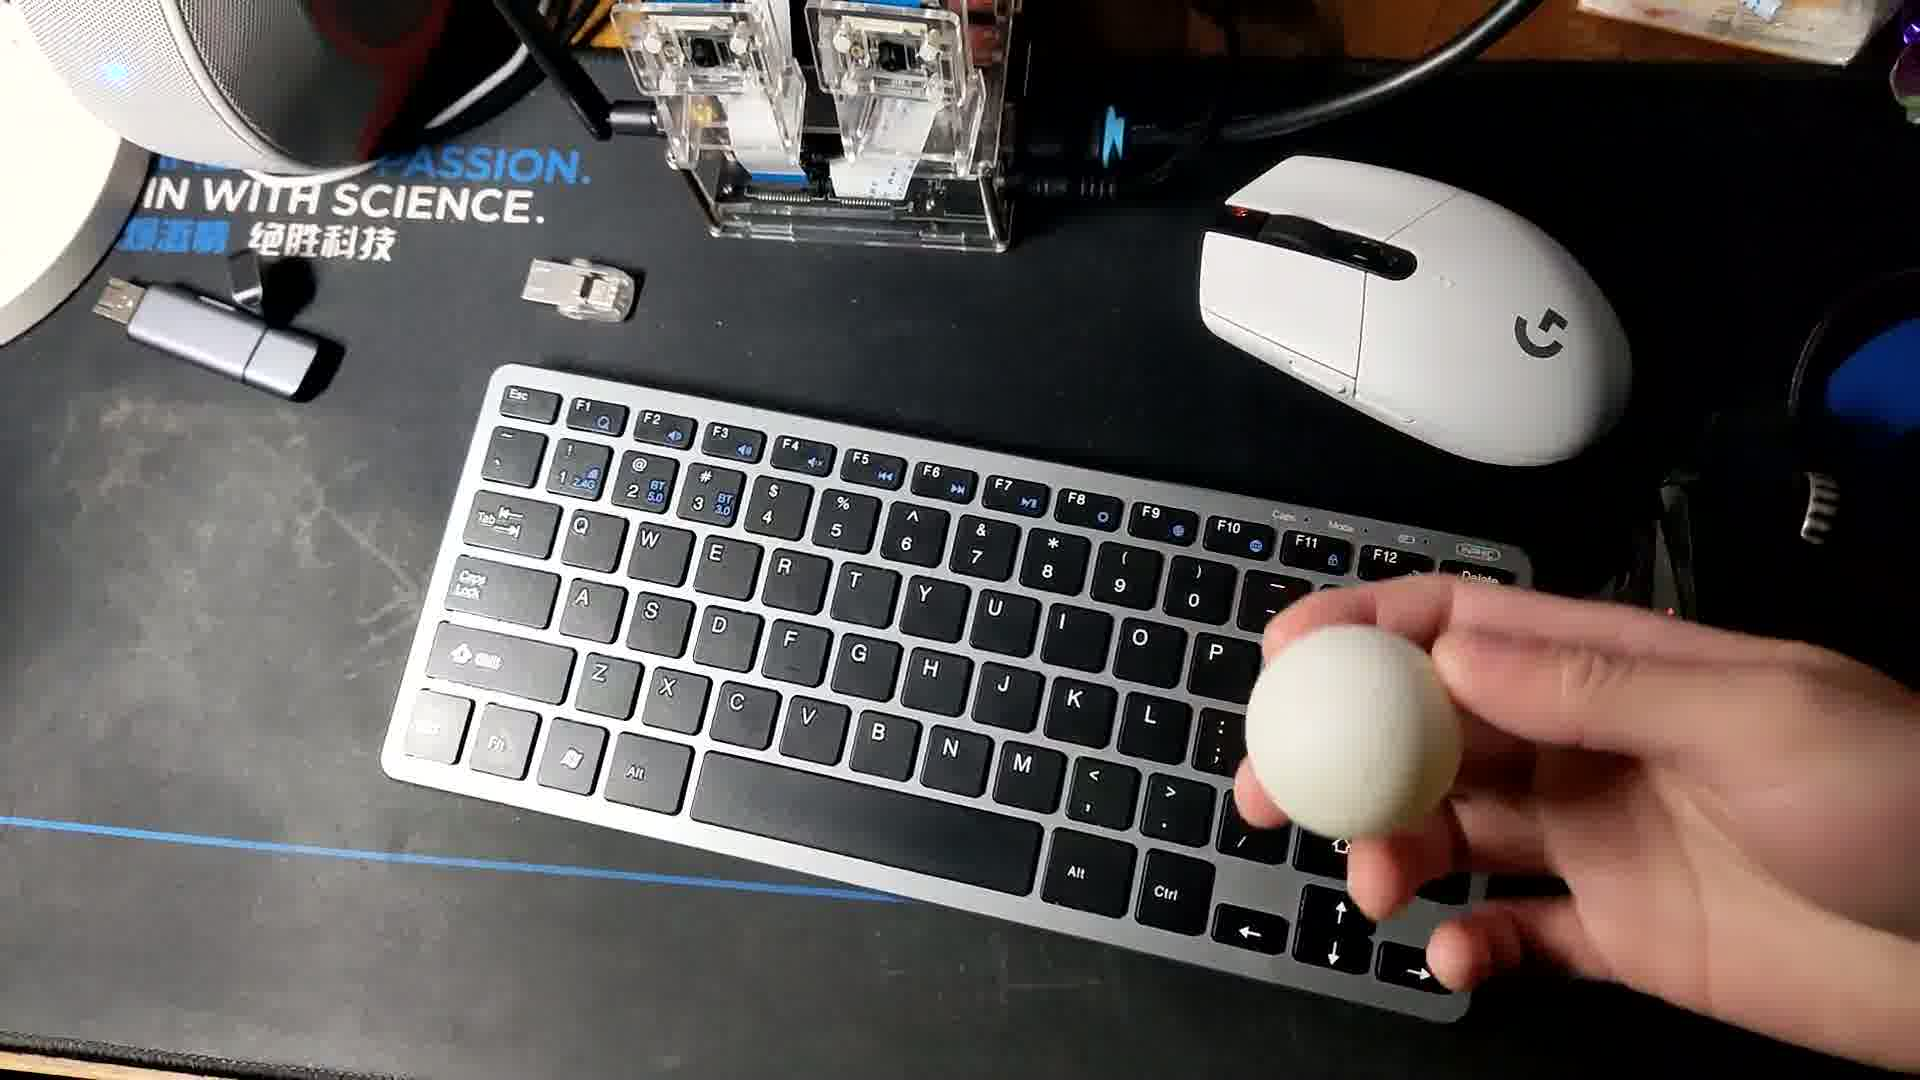Ball: (1244, 626, 1466, 841)
